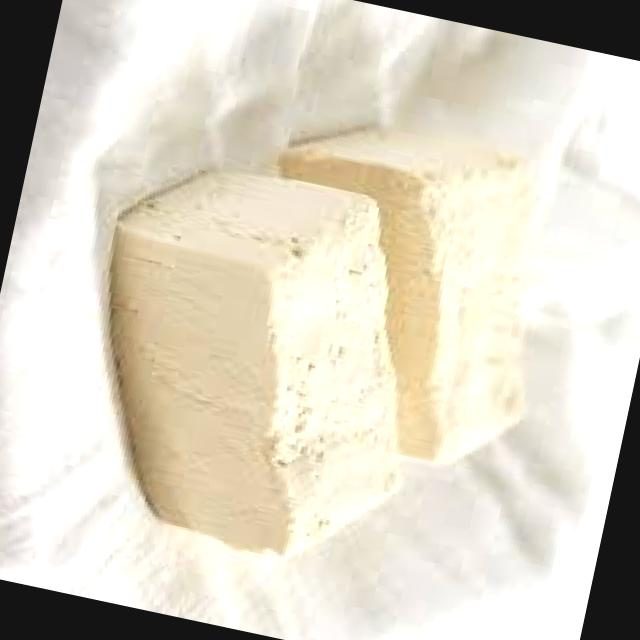tof: (47, 46, 586, 619), (54, 125, 450, 575)
